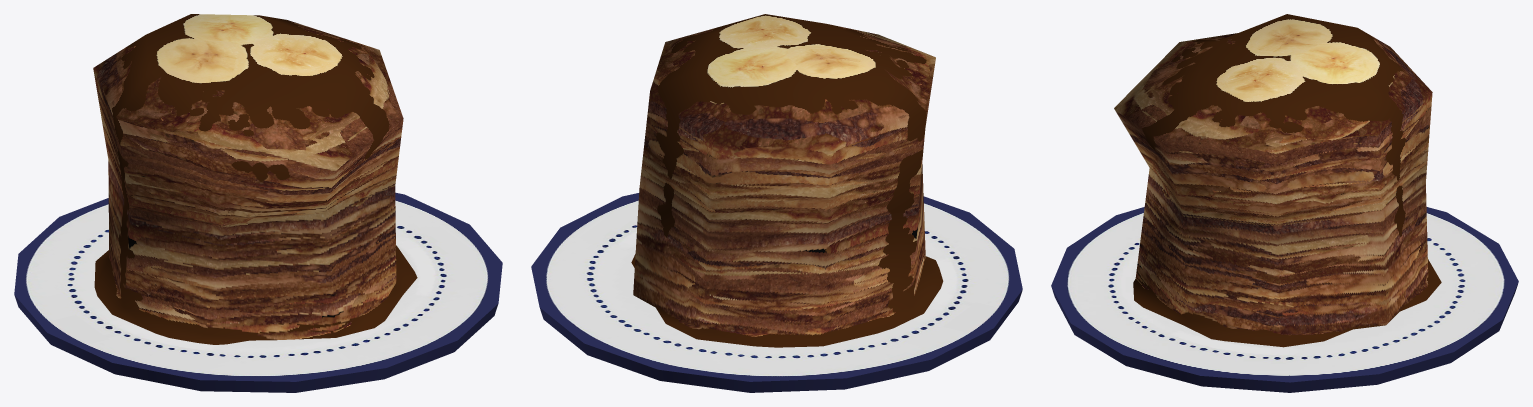
File: pancake_stack.glb
3 renders of one model, left to right at view 1: azimuth 30°, elevation 25°; view 2: azimuth 150°, elevation 25°; view 3: azimuth 270°, elevation 25°, orthographic. The views are drawn at different scales.
Visible parts, largest first — view 1: pancakes, plate; view 2: pancakes, plate; view 3: pancakes, plate.
Boxes of the visible parts, x1,y1,x2,y2 form: pancakes: (93,14,417,344); plate: (14,192,502,392); pancakes: (631,14,943,347); plate: (531,193,1022,392); pancakes: (1114,14,1441,347); plate: (1051,207,1518,392).
Bounding box in the file's own units: 0.1677 × 0.0927 × 0.1677.
Materials: 1 (1 with a texture image).
